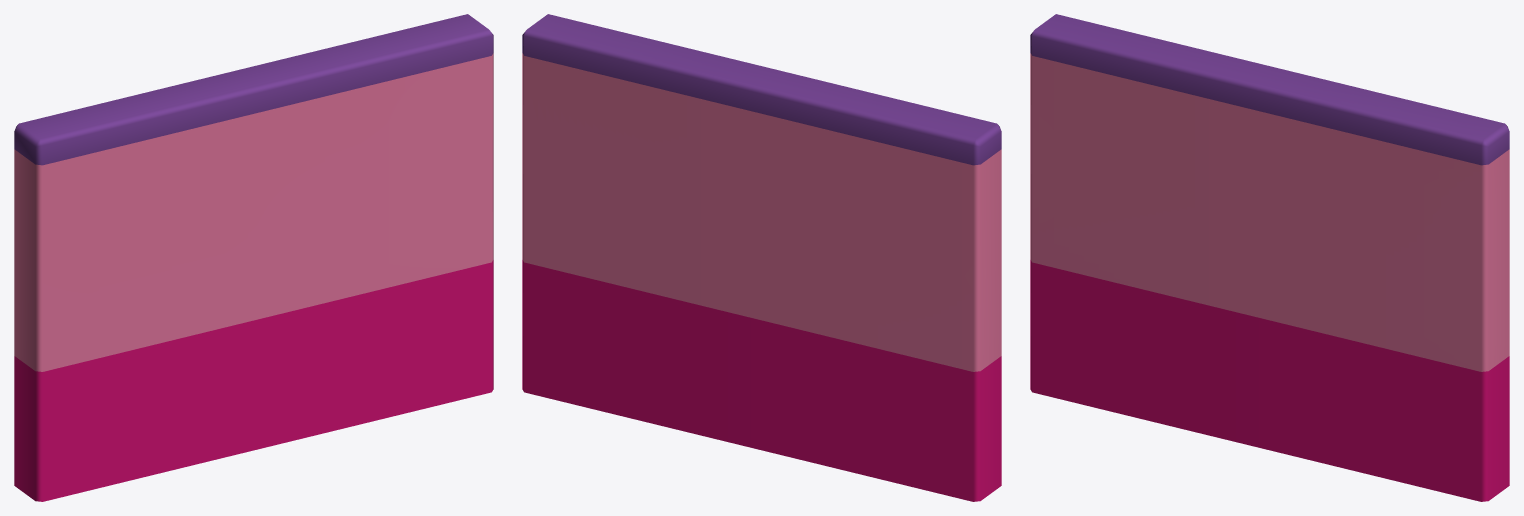
Rendered from Decor_wall_D.fbx.
3 views of the same model, side by side, from view 1: azimuth 30°, elevation 25°; view 2: azimuth 150°, elevation 25°; view 3: azimuth 330°, elevation 25° (orthographic).
Parts seen in each view (by area): view 1: Decor_wall_D; view 2: Decor_wall_D; view 3: Decor_wall_D.
Boxes of the visible parts, left/top/right/bottom form: Decor_wall_D: left=14, top=14, right=493, bottom=501; Decor_wall_D: left=522, top=14, right=1001, bottom=501; Decor_wall_D: left=1030, top=14, right=1509, bottom=501.
Size of the model in its own units: 527 by 397 by 52.55.
